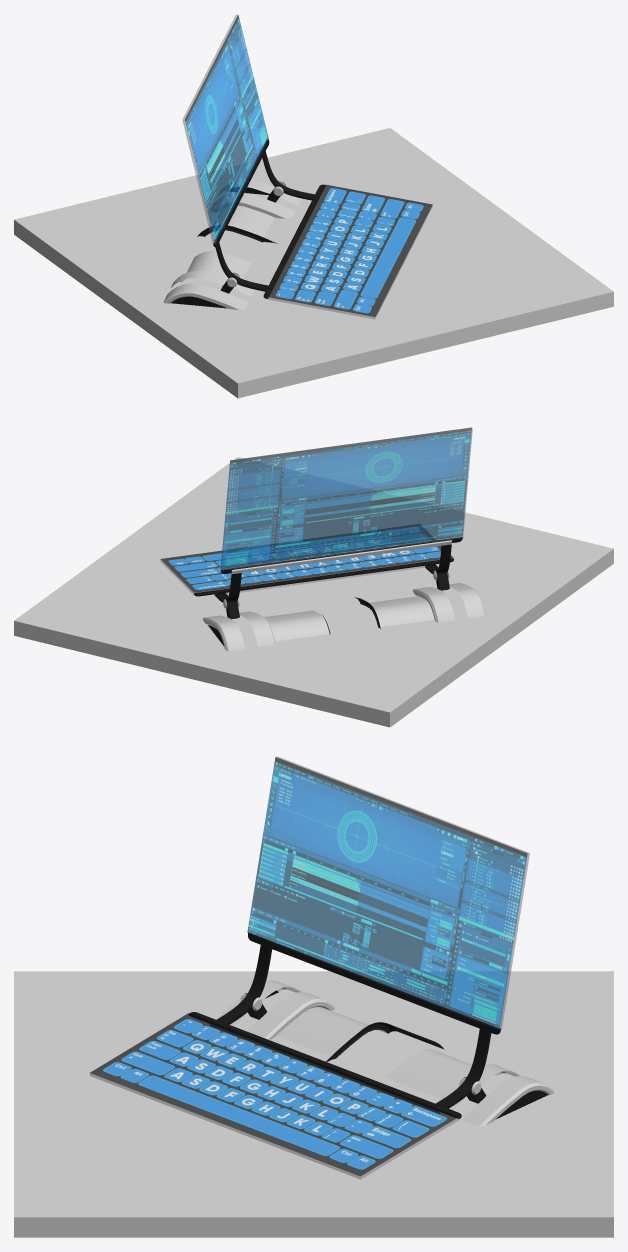
File: server.glb
The picture shows the model from 3 angles, top to bottom: view 1: azimuth 30°, elevation 25°; view 2: azimuth 150°, elevation 25°; view 3: azimuth 270°, elevation 25°; orthographic projection. The views are drawn at different scales.
Visible parts, largest first — view 1: Cube, Plane.002, Plane.001, Circle; view 2: Cube, Plane.001, Circle, Plane.002; view 3: Cube, Plane.001, Plane.002, Circle.
Boxes of the visible parts, x1,y1,x2,y2 form: Cube: (14,128,613,398); Plane.002: (268,184,432,319); Plane.001: (182,15,268,243); Circle: (163,139,325,309); Cube: (14,457,613,727); Plane.001: (220,427,472,570); Circle: (194,537,485,651); Plane.002: (160,524,453,594); Cube: (14,971,613,1237); Plane.001: (247,757,529,1028); Plane.002: (90,1013,458,1179); Circle: (189,932,554,1126).
Bounding box in the file's own units: 5.84 × 2.92 × 6.03.
5 materials, 1 textured.
